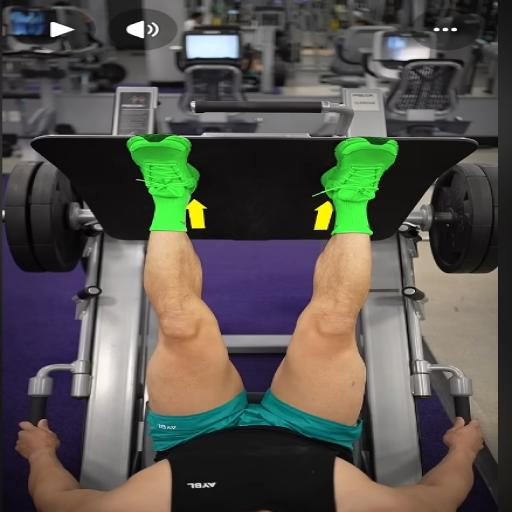Leg Press: (20, 138, 491, 498)
